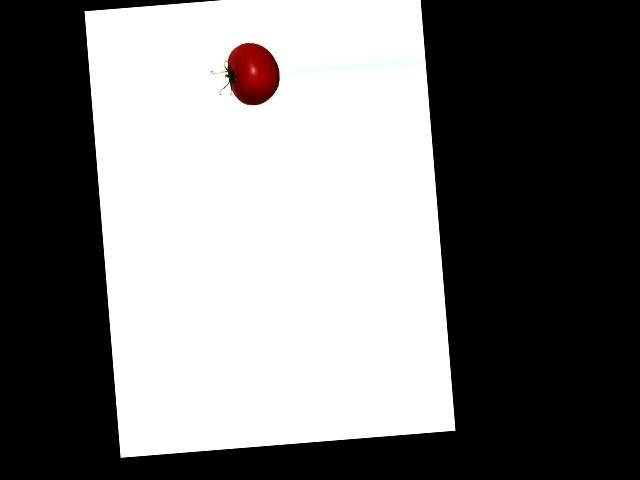tomato: (225, 40, 281, 106)
